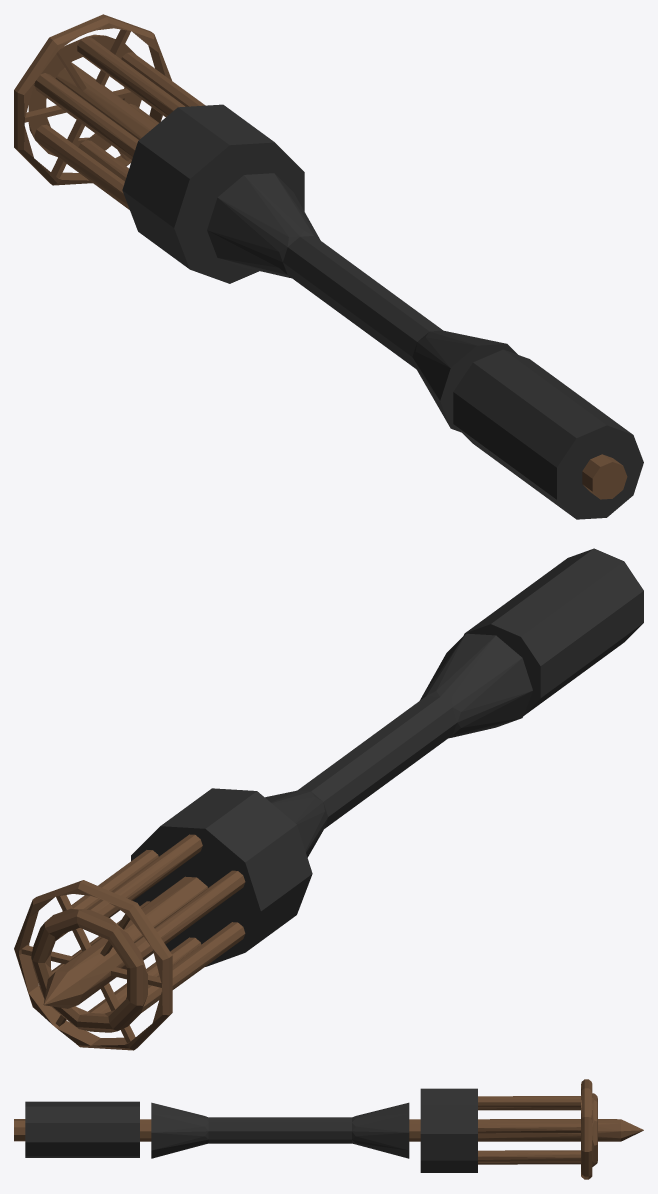
Rendered from Weapon-Electric-Barrel.fbx.
The picture shows the model from 3 angles, top to bottom: view 1: azimuth 30°, elevation 25°; view 2: azimuth 150°, elevation 25°; view 3: azimuth 270°, elevation 25°; orthographic projection. The views are drawn at different scales.
Visible parts, largest first — view 1: Weapon-Electric-Barrel; view 2: Weapon-Electric-Barrel; view 3: Weapon-Electric-Barrel.
Boxes of the visible parts, <box> form: Weapon-Electric-Barrel: <box>14,14,643,519</box>; Weapon-Electric-Barrel: <box>14,548,643,1050</box>; Weapon-Electric-Barrel: <box>14,1079,643,1179</box>.
Bounding box in the file's own units: 86.7 × 88.04 × 550.
